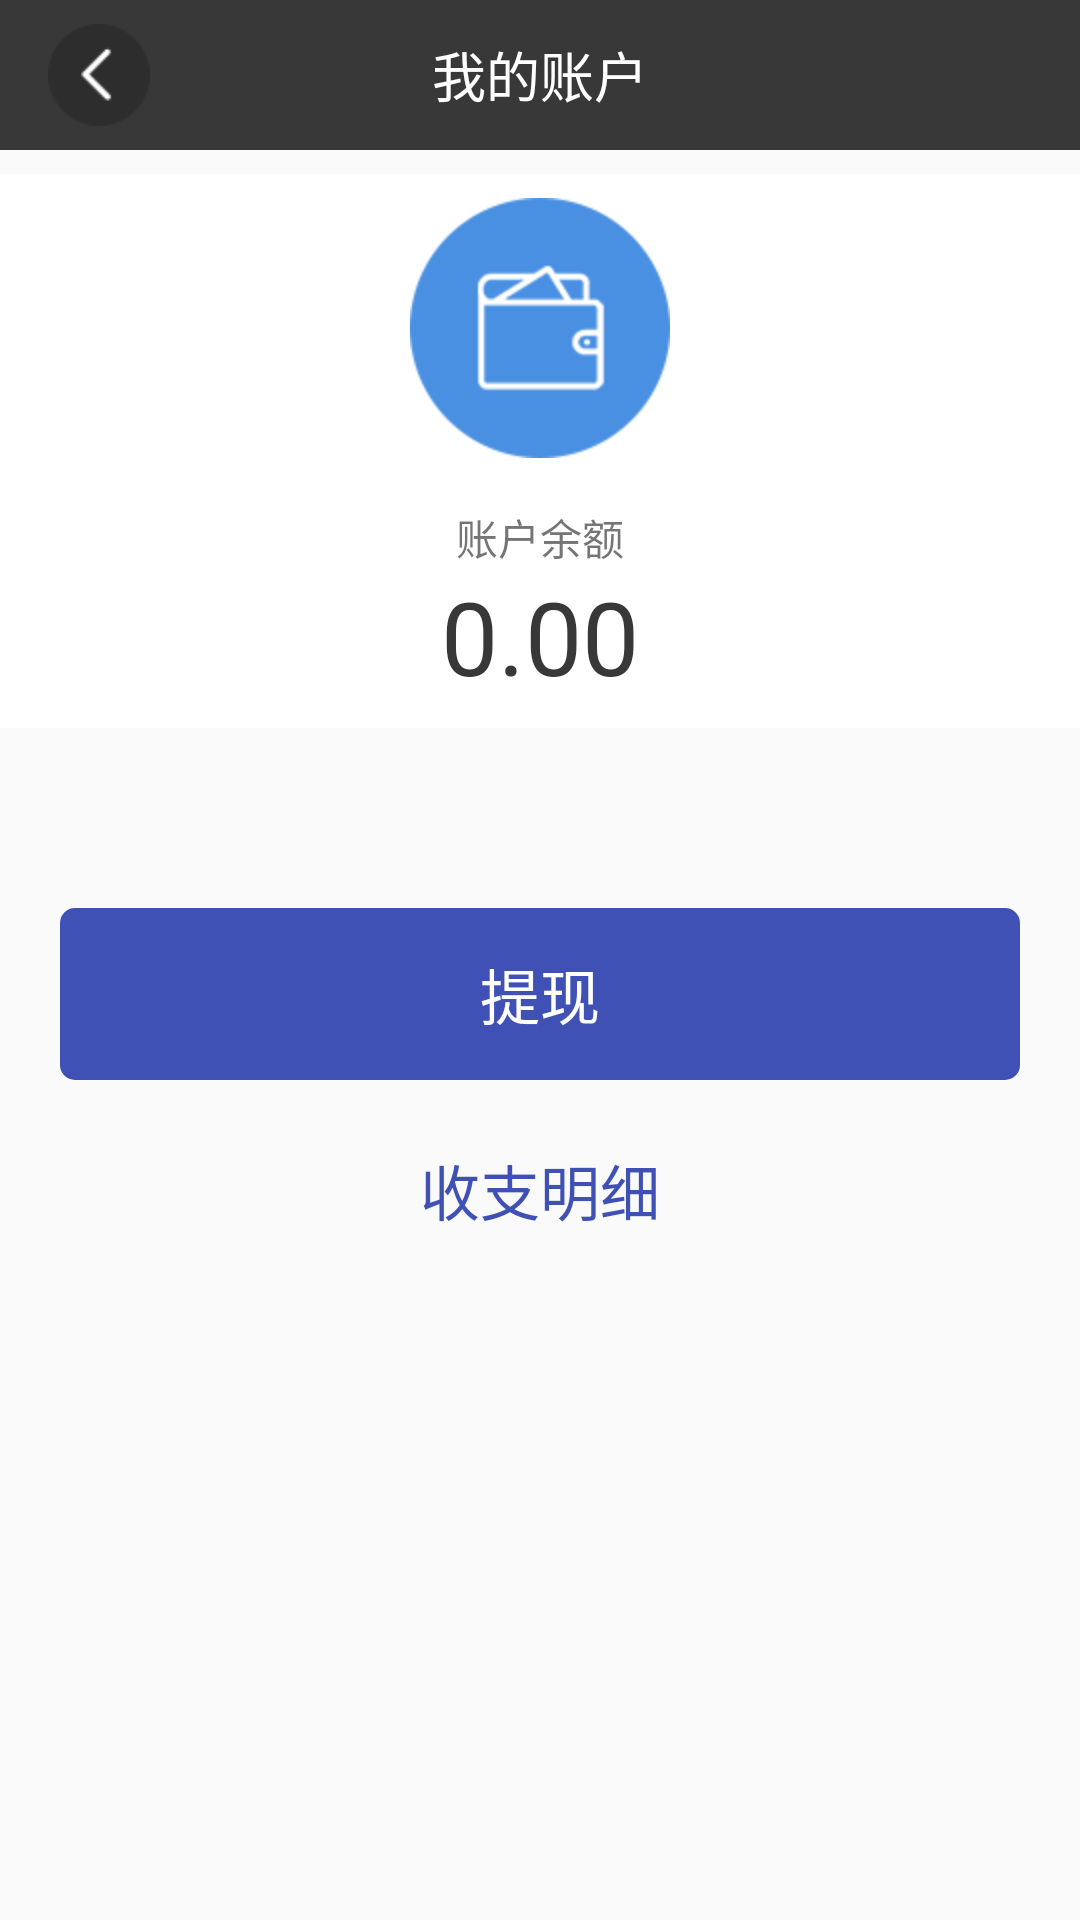

Named icons in this screenshot (1080x1920) and their bounding boxes, (x1, y1, x2, y2):
top back: (48, 24, 150, 126)
wallet: (410, 198, 670, 458)
